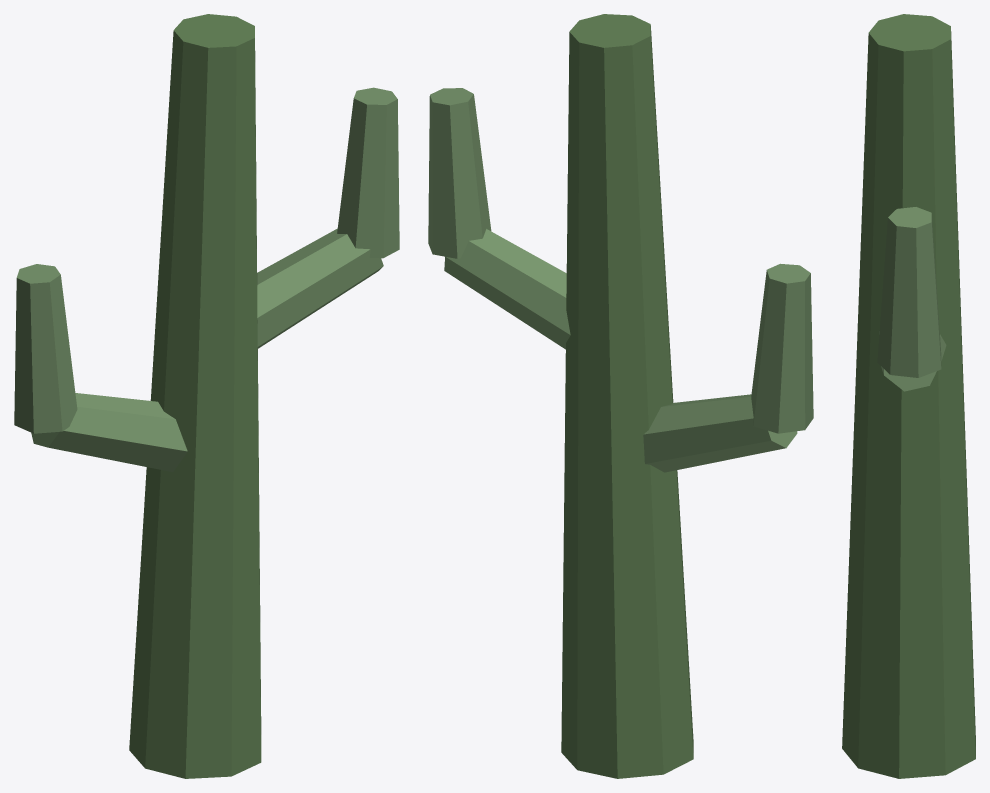
File: saguaro.glb
3 renders of one model, left to right at view 1: azimuth 30°, elevation 25°; view 2: azimuth 150°, elevation 25°; view 3: azimuth 270°, elevation 25°, orthographic.
Visible parts, largest first — view 1: saguaro; view 2: saguaro; view 3: saguaro.
Boxes of the visible parts, bbox=[...] form: saguaro: bbox=[14, 14, 399, 778]; saguaro: bbox=[428, 14, 813, 778]; saguaro: bbox=[842, 14, 975, 778].
Size of the model in its own units: 2.49 by 4.54 by 0.7565.
